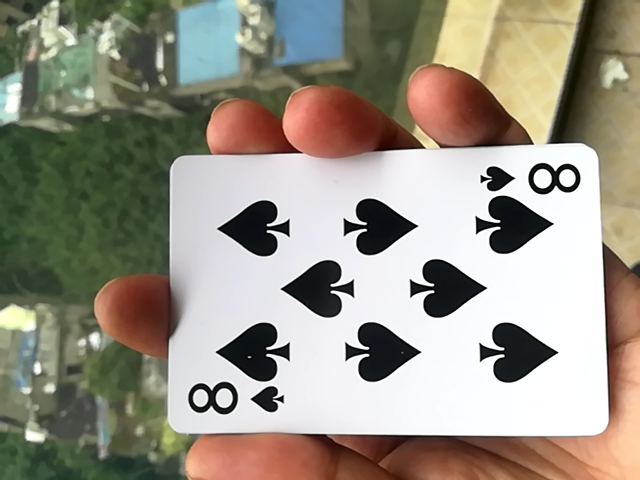ht 8: (147, 139, 595, 457)
